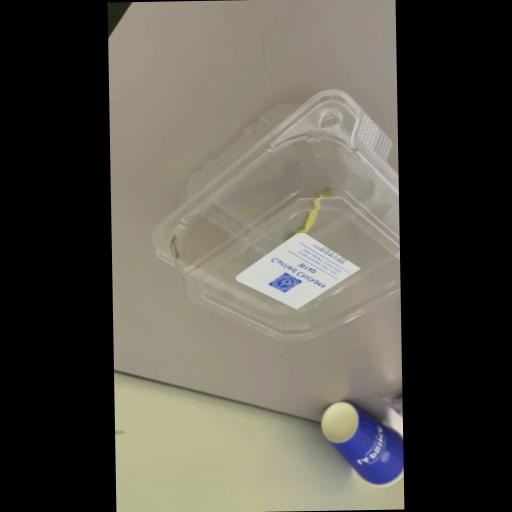small_plastic_container: (146, 86, 402, 348)
